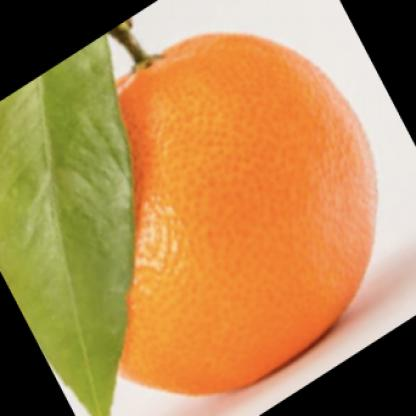orange: (25, 34, 377, 398)
